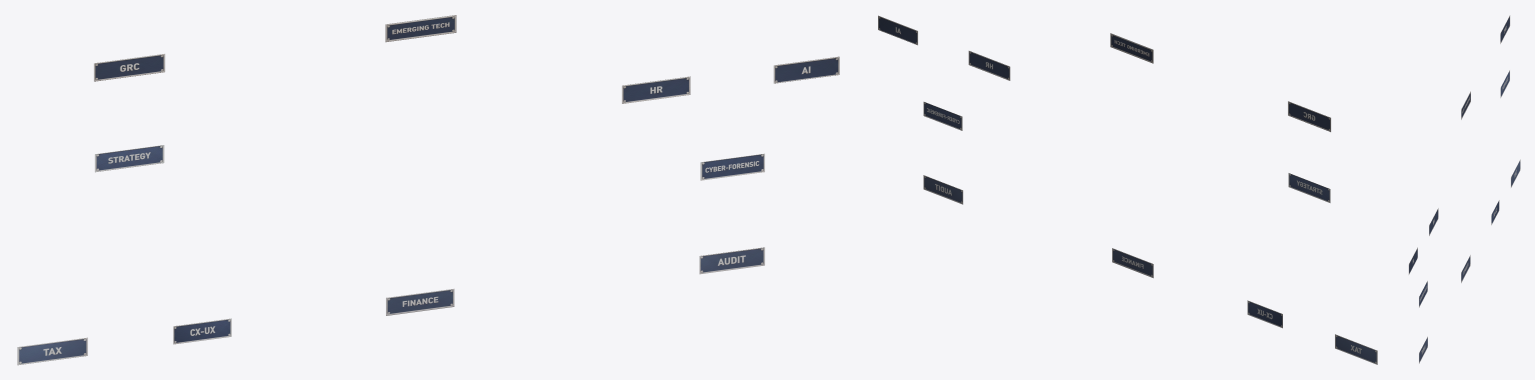
Rendered from Library_Nameplate.glb.
3 views of the same model, side by side, from view 1: azimuth 30°, elevation 25°; view 2: azimuth 150°, elevation 25°; view 3: azimuth 270°, elevation 25° (orthographic). The views are drawn at different scales.
Visible parts, largest first — view 1: pPlane17; view 2: pPlane17; view 3: pPlane17.
Boxes of the visible parts, <box> form: pPlane17: <box>17,15,839,365</box>; pPlane17: <box>878,15,1377,364</box>; pPlane17: <box>1409,15,1520,363</box>.
Bounding box in the file's own units: 4.38 × 1.66 × 0.9675.
Materials: 1 (1 with a texture image).
